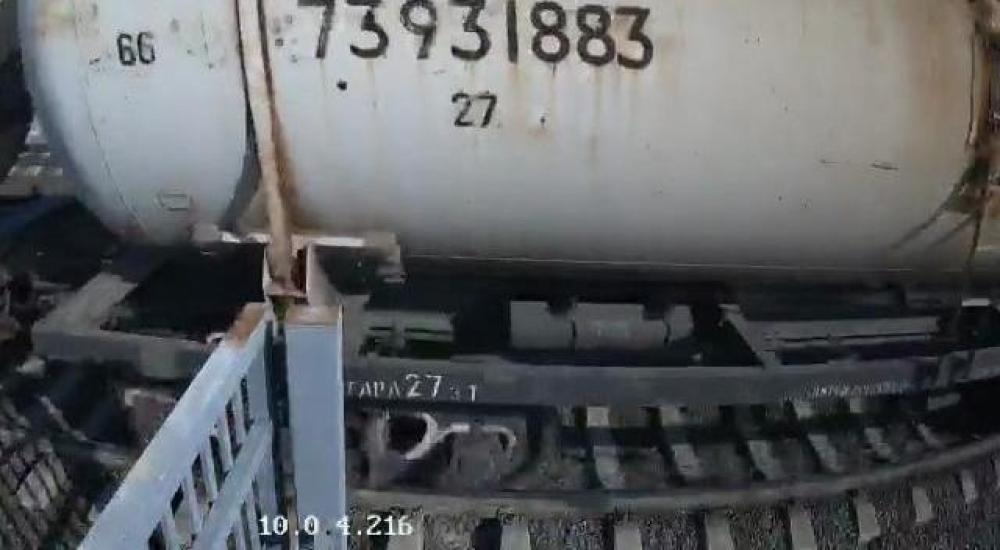Wagon-number: (295, 0, 659, 71)
